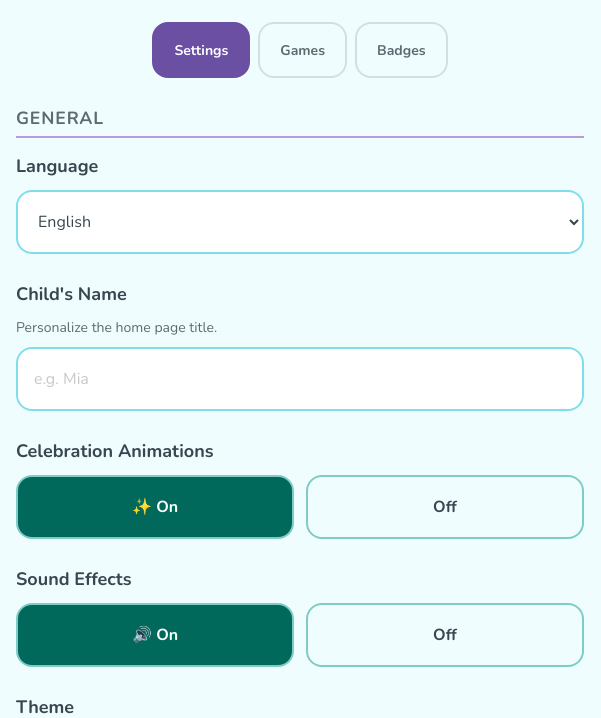
Test: AdminPage › shows a translated empty-state message on the Games tab when there are no games
Click the tab "Games".
click(303, 50)  # box [258,22,347,78]
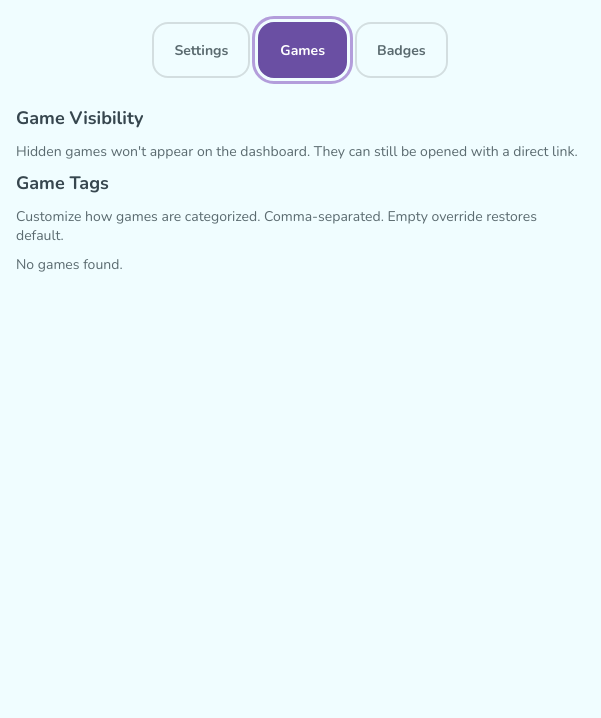
Result: the text "No games found." is shown at [16,255,123,274]
